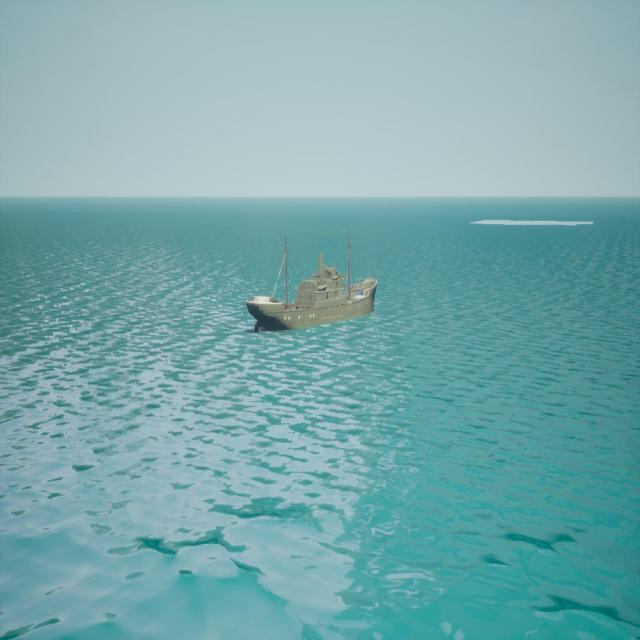fishing ship: (249, 237, 376, 332)
